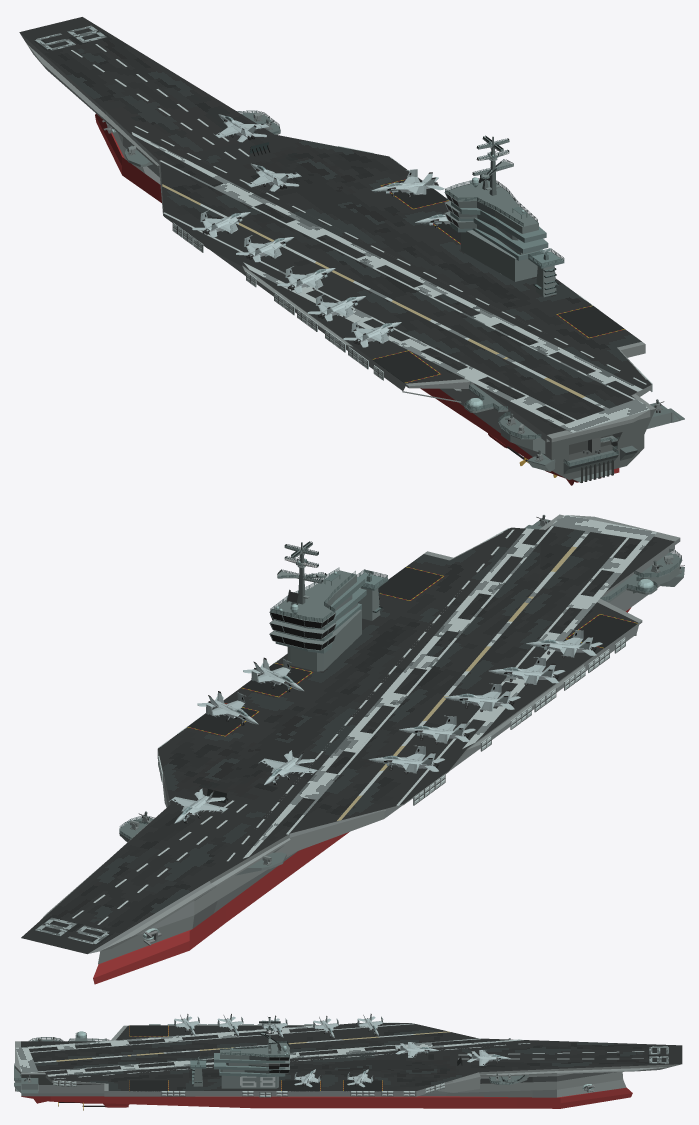
The model's file is lowpoly_nimitz.gltf.
The picture shows the model from 3 angles, top to bottom: view 1: azimuth 30°, elevation 25°; view 2: azimuth 150°, elevation 25°; view 3: azimuth 270°, elevation 25°; orthographic projection. The views are drawn at different scales.
Parts seen in each view (by area): view 1: mesh_selection_selection_56, cuboid_54, cuboid_50, cuboid_48, cuboid_46, cuboid_49, cuboid_47, cuboid_selection_52, cuboid_selection_51; view 2: mesh_selection_selection_56, cuboid_48, cuboid_50, cuboid_47, cuboid_46, cuboid_49, cuboid_53, cuboid_54, cuboid_selection_51, cuboid_selection_52; view 3: mesh_selection_selection_56, cuboid_selection_51, cuboid_selection_52, cuboid_46, cuboid_49, cuboid_47, cuboid_50, plane_71, plane_70, cuboid_53, cuboid_54, cuboid_48.
Boxes of the visible parts, x1=… form: mesh_selection_selection_56: x1=19, y1=17, x2=684, y2=485; cuboid_54: x1=371, y1=169, x2=444, y2=197; cuboid_50: x1=343, y1=320, x2=401, y2=347; cuboid_48: x1=277, y1=266, x2=335, y2=293; cuboid_46: x1=192, y1=210, x2=250, y2=237; cuboid_49: x1=307, y1=294, x2=365, y2=321; cuboid_47: x1=236, y1=235, x2=294, y2=262; cuboid_selection_52: x1=245, y1=163, x2=301, y2=191; cuboid_selection_51: x1=213, y1=114, x2=268, y2=142; mesh_selection_selection_56: x1=21, y1=514, x2=684, y2=984; cuboid_48: x1=444, y1=683, x2=520, y2=711; cuboid_50: x1=526, y1=629, x2=602, y2=658; cuboid_47: x1=399, y1=715, x2=475, y2=744; cuboid_46: x1=368, y1=745, x2=444, y2=774; cuboid_49: x1=488, y1=657, x2=565, y2=685; cuboid_53: x1=243, y1=657, x2=303, y2=692; cuboid_54: x1=197, y1=691, x2=258, y2=725; cuboid_selection_51: x1=169, y1=787, x2=228, y2=823; cuboid_selection_52: x1=258, y1=749, x2=317, y2=785; mesh_selection_selection_56: x1=14, y1=1017, x2=682, y2=1110; cuboid_selection_51: x1=467, y1=1050, x2=510, y2=1065; cuboid_selection_52: x1=395, y1=1042, x2=438, y2=1057; cuboid_46: x1=357, y1=1014, x2=383, y2=1035; cuboid_49: x1=217, y1=1014, x2=243, y2=1035; cuboid_47: x1=313, y1=1016, x2=338, y2=1037; cuboid_50: x1=174, y1=1014, x2=199, y2=1035; plane_71: x1=240, y1=1076, x2=275, y2=1087; plane_70: x1=637, y1=1046, x2=668, y2=1063; cuboid_53: x1=294, y1=1069, x2=320, y2=1087; cuboid_54: x1=347, y1=1069, x2=373, y2=1087; cuboid_48: x1=262, y1=1015, x2=287, y2=1037.
Bounding box in the file's own units: 3.38 × 2.53 × 13.51.
Materials: 16 (15 with a texture image).
